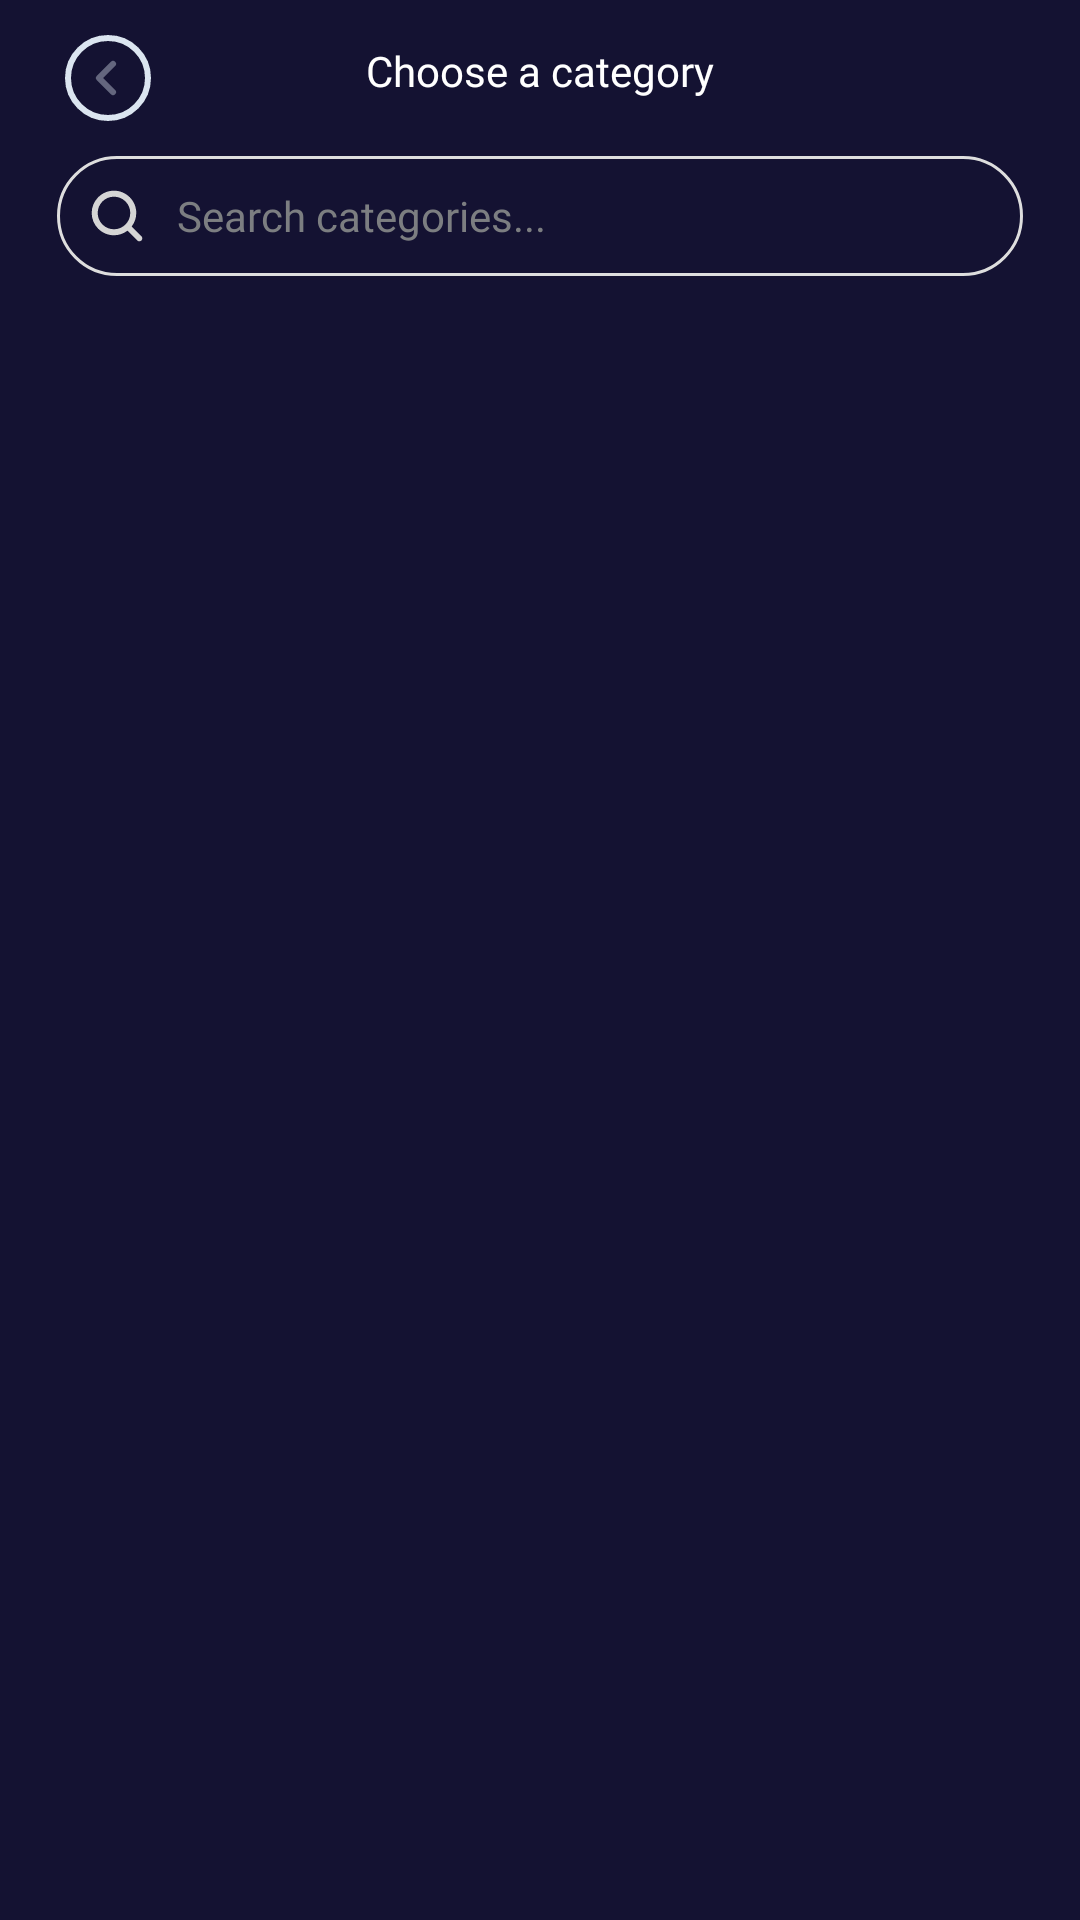

Named icons in this screenshot (1080w x 1920h) and their bounding boxes, (x1, y1, x2, y2):
back: (65, 35, 151, 121)
